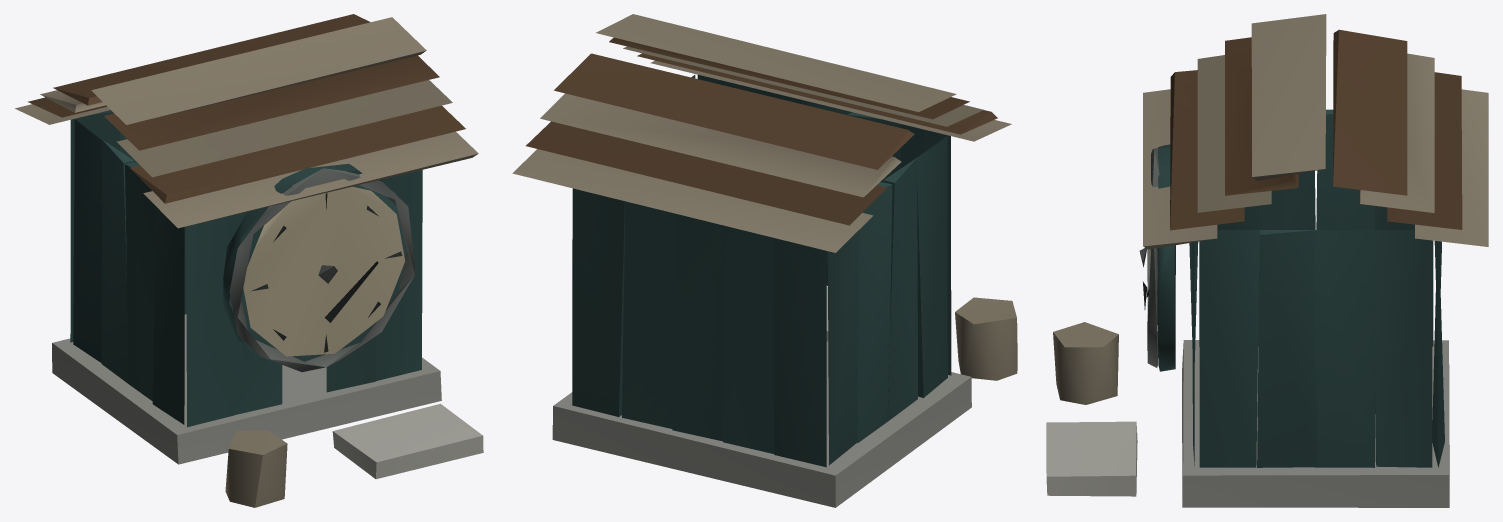
Rendered from gauge_dial_shed_b_lod2.glb.
3 views of the same model, side by side, from view 1: azimuth 30°, elevation 25°; view 2: azimuth 150°, elevation 25°; view 3: azimuth 270°, elevation 25° (orthographic). The views are drawn at different scales.
Visible parts, largest first — view 1: Surface.001; view 2: Surface.001; view 3: Surface.001.
Boxes of the visible parts, box(x1,y1,x2,y2) form: Surface.001: box(15, 14, 483, 507); Surface.001: box(512, 14, 1017, 507); Surface.001: box(1046, 14, 1488, 507).
Size of the model in its own units: 2.71 by 2.86 by 3.26.
